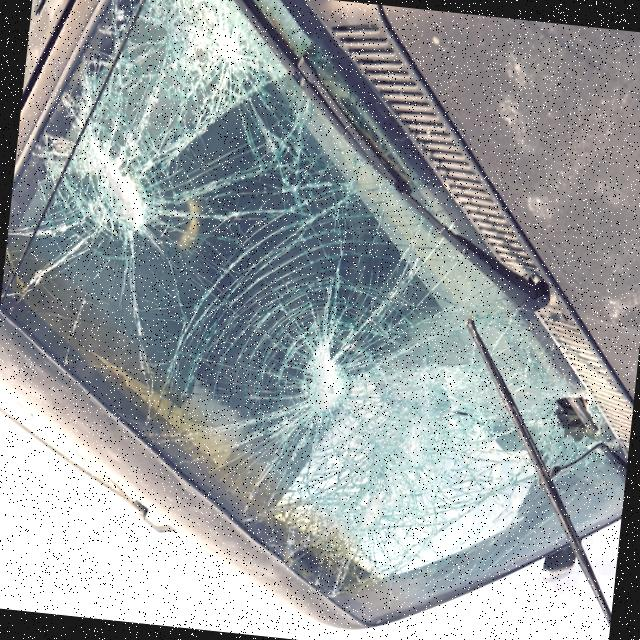Windshield: (8, 0, 273, 363), (240, 178, 504, 542)
